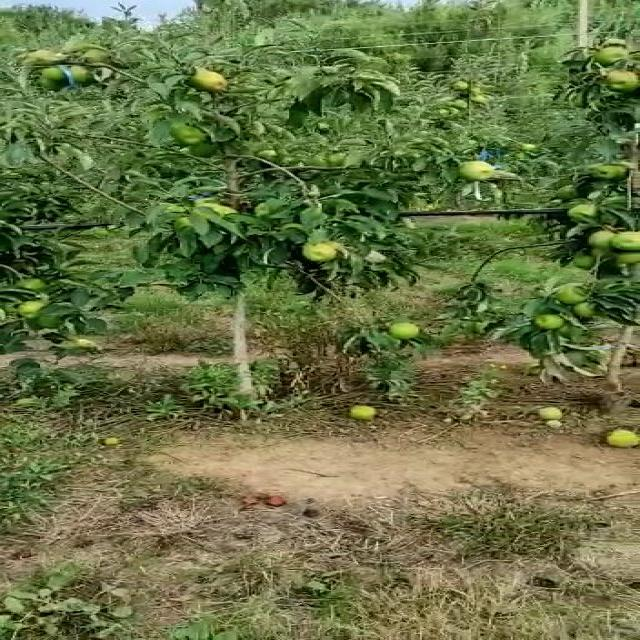100-_ripeness: (295, 240, 338, 264), (596, 70, 640, 93), (456, 161, 496, 183), (188, 72, 228, 91), (609, 228, 638, 250), (64, 65, 98, 82), (595, 47, 627, 65), (36, 69, 80, 81), (393, 321, 422, 338), (565, 202, 591, 219), (16, 304, 44, 319), (538, 314, 566, 329), (180, 130, 204, 146), (569, 254, 593, 270), (558, 290, 587, 303), (207, 205, 238, 217), (573, 305, 596, 321), (176, 215, 202, 229), (591, 232, 614, 247), (591, 167, 613, 177)
